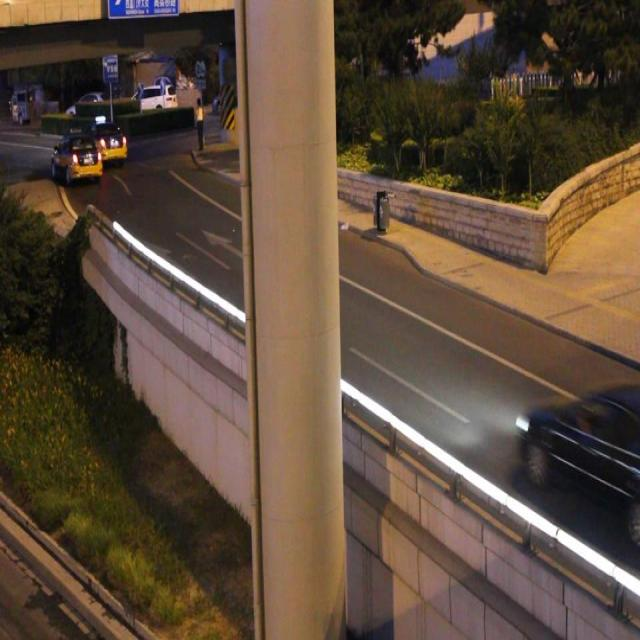car: (520, 388, 640, 520), (53, 137, 101, 179), (85, 121, 127, 162)
